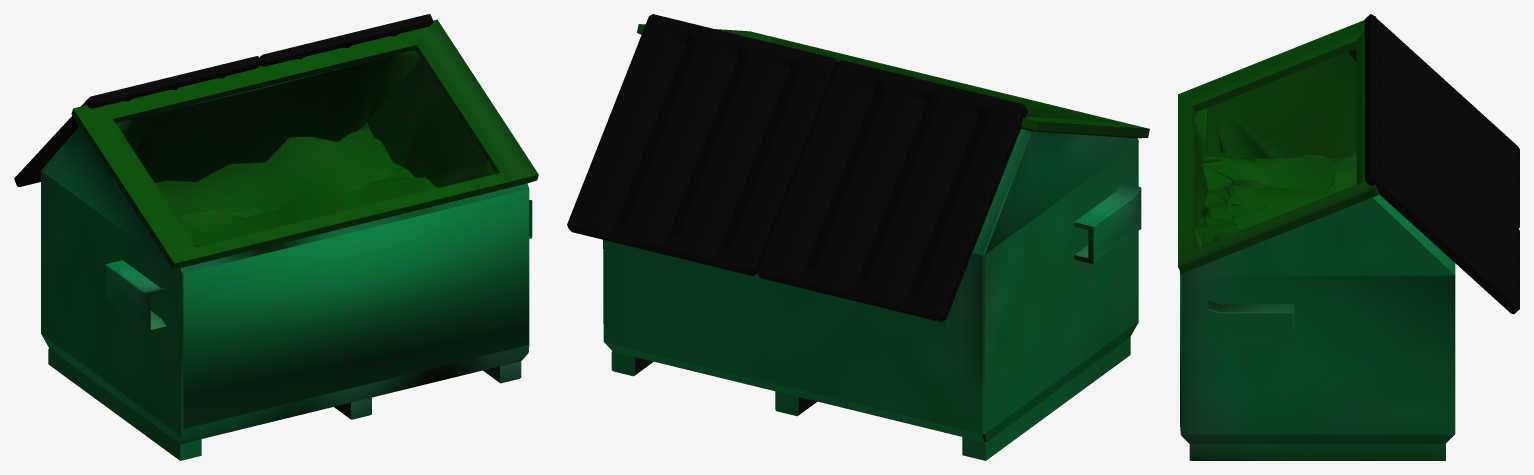
File: trash.dae
The picture shows the model from 3 angles, left to right: view 1: azimuth 30°, elevation 25°; view 2: azimuth 150°, elevation 25°; view 3: azimuth 270°, elevation 25°; orthographic projection. The views are drawn at different scales.
Visible parts, largest first — view 1: base_Cube_002; view 2: base_Cube_002; view 3: base_Cube_002.
Boxes of the visible parts, x1,y1,x2,y2 form: base_Cube_002: [14, 14, 538, 460]; base_Cube_002: [567, 14, 1149, 460]; base_Cube_002: [1178, 14, 1519, 460].
Bounding box in the file's own units: 0.2286 × 0.1823 × 0.1697.
Materials: 1 (1 with a texture image).
